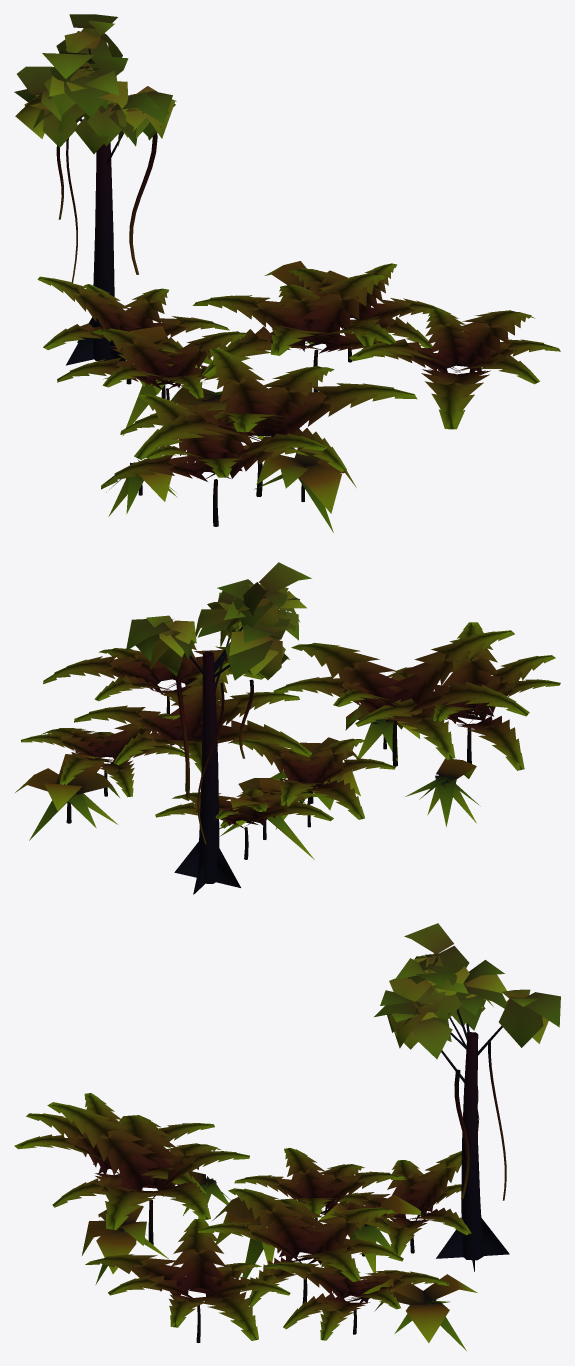
The model's file is patch_palmgrove_far.glb.
3 renders of one model, top to bottom at view 1: azimuth 30°, elevation 25°; view 2: azimuth 150°, elevation 25°; view 3: azimuth 270°, elevation 25°, orthographic. The views are drawn at different scales.
Parts seen in each view (by area): view 1: patch_palmgrove_far; view 2: patch_palmgrove_far; view 3: patch_palmgrove_far.
Part boxes in pixels (x1,y1,x2,y2): patch_palmgrove_far: [14, 14, 560, 532]; patch_palmgrove_far: [15, 562, 560, 894]; patch_palmgrove_far: [14, 923, 560, 1350].
Bounding box in the file's own units: 18.1 × 13 × 20.02.
Materials: 1 (1 with a texture image).
